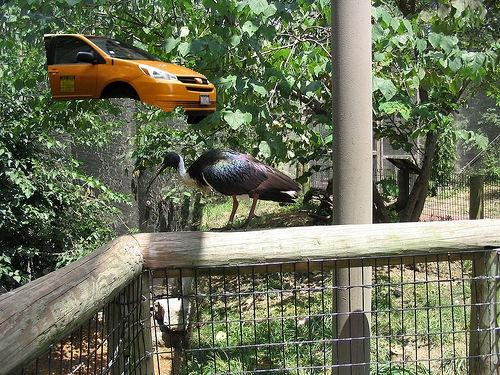tampered: (45, 34, 216, 124)
